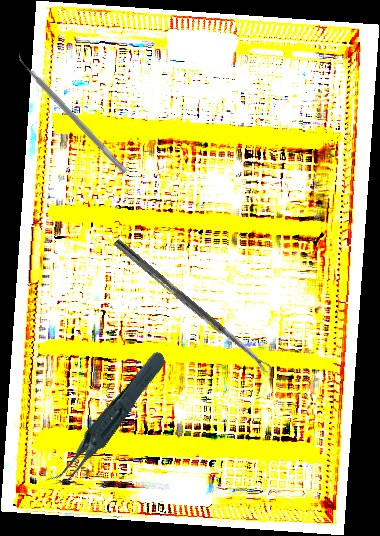Spatula Surgical: (12, 50, 133, 175)
Surgical Spoon: (112, 238, 273, 375)
Tissue Forceps: (23, 348, 189, 492)
